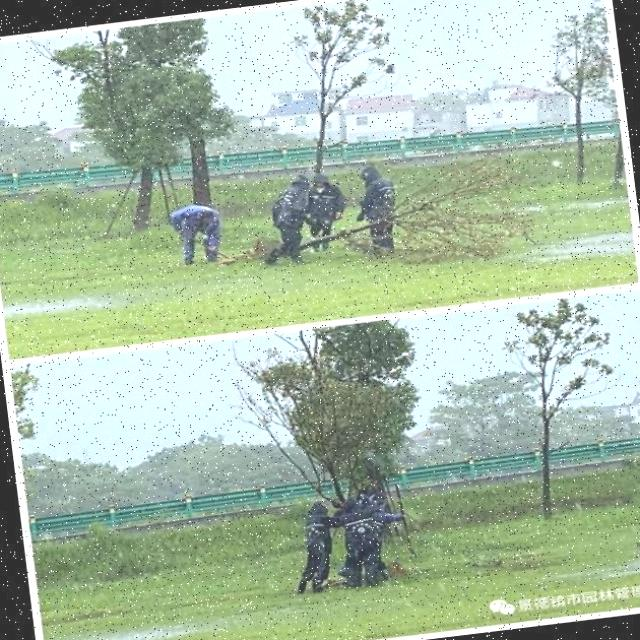fallen_object: (214, 145, 548, 297)
